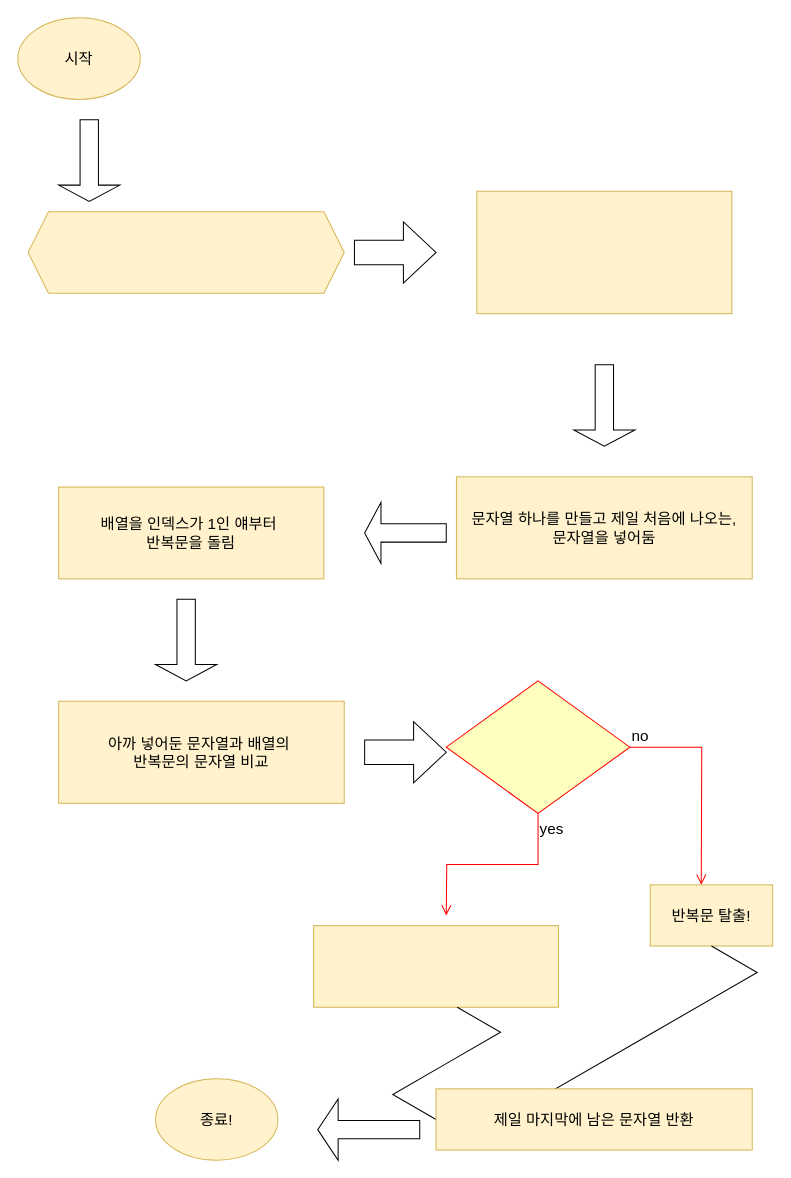
This 791x1178 diagram has some shape labels left out. The shapes that lost their labels are listed below. From the top down, each one's box as (x1, y1, x2, y2) in pixels, then its label:
(27, 211, 344, 293): 배열의 최대 크기와, 배열 원소 하나당 (한 문자열)당 최대 길이 확인
(476, 190, 732, 314): 배열을 사전순으로 정렬 (알파벳 순으로, 문자열의 길이가 작은 순서로)
(445, 680, 630, 813): 같은문자???
(313, 925, 558, 1007): 새로운 문자열 만들고 더해나간다!
